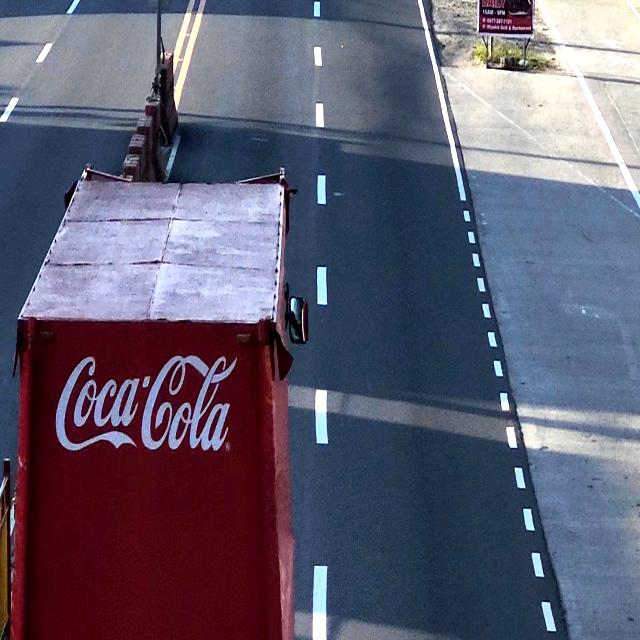Truck: (13, 164, 298, 640)
